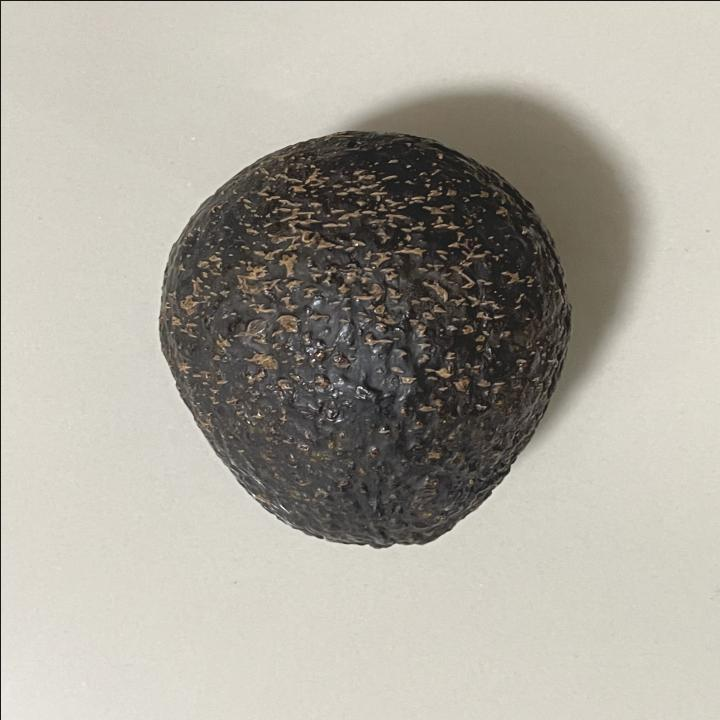Level3: (148, 124, 579, 558)
